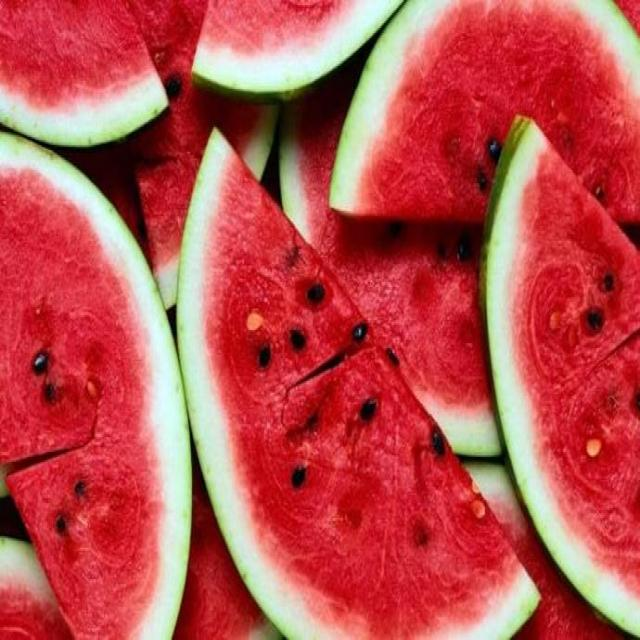watermelon: (175, 119, 539, 640), (0, 126, 196, 638), (272, 105, 510, 460), (482, 107, 640, 640), (322, 0, 640, 226), (103, 0, 284, 304), (0, 0, 169, 155)
